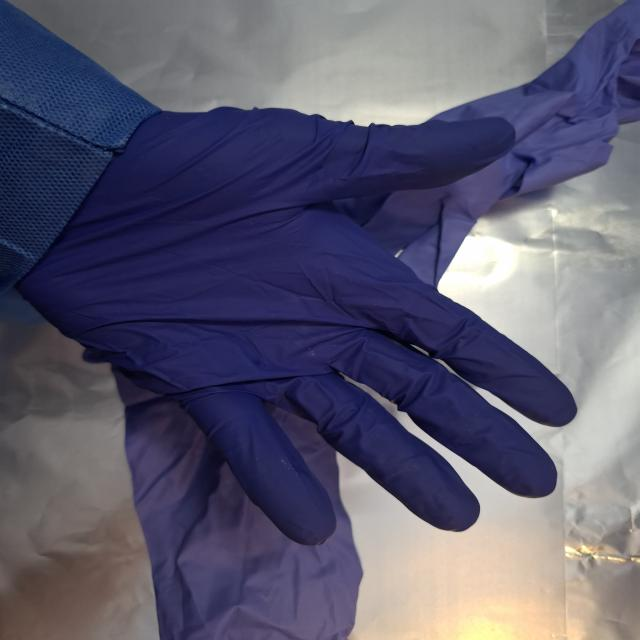glove_on: (11, 104, 582, 549)
